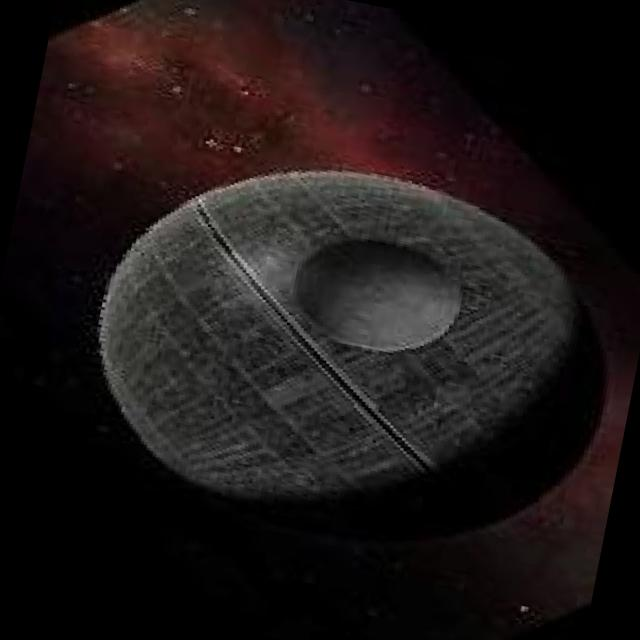Death Star: (58, 118, 612, 566)
